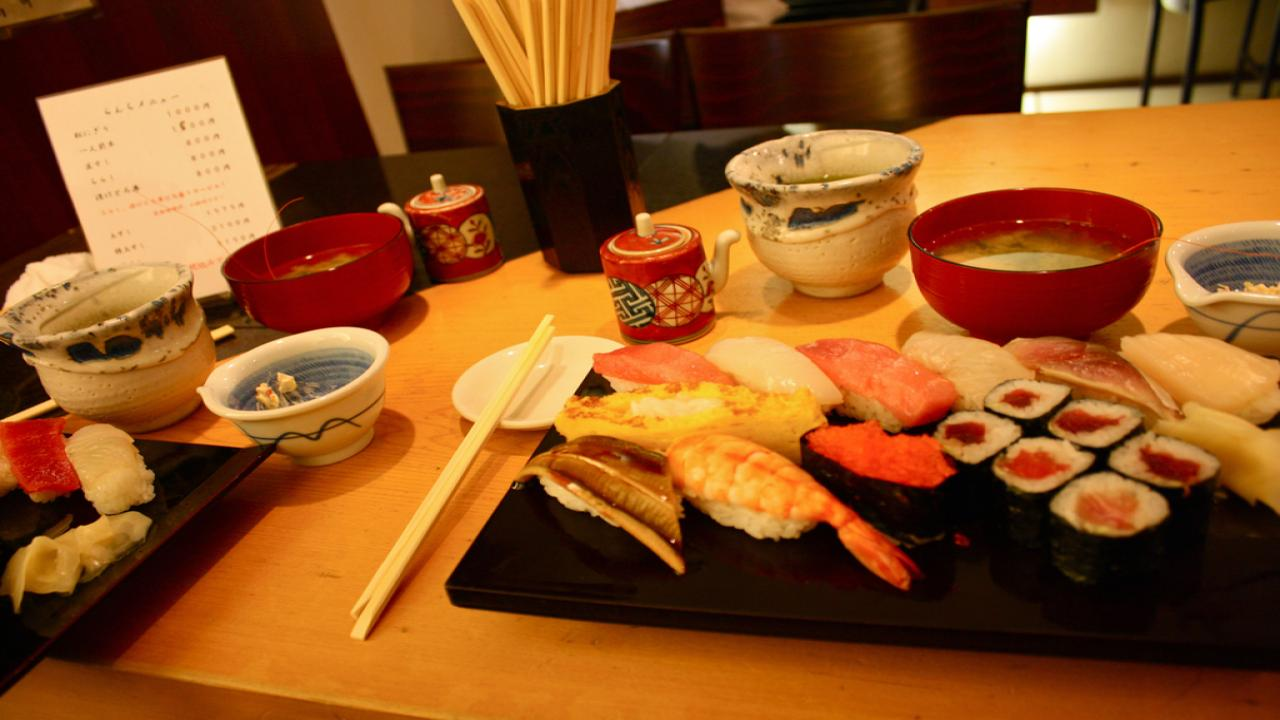chopstick: (352, 316, 562, 638), (451, 0, 612, 105), (1, 397, 62, 425)
